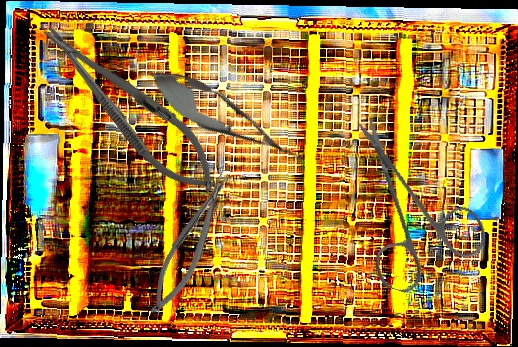Iris Scissors: (313, 116, 510, 312)
Micro Scissor: (139, 56, 313, 179)
Needle Holder: (28, 8, 233, 208), (138, 167, 244, 321)
